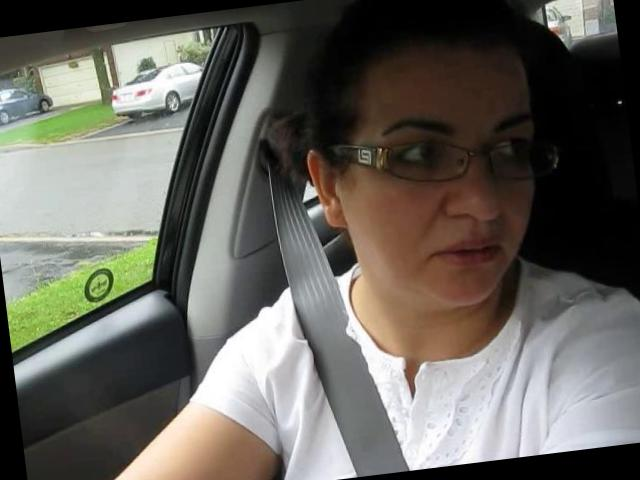eye_open: (386, 134, 462, 180), (490, 131, 532, 165)
face: (320, 73, 564, 372)
